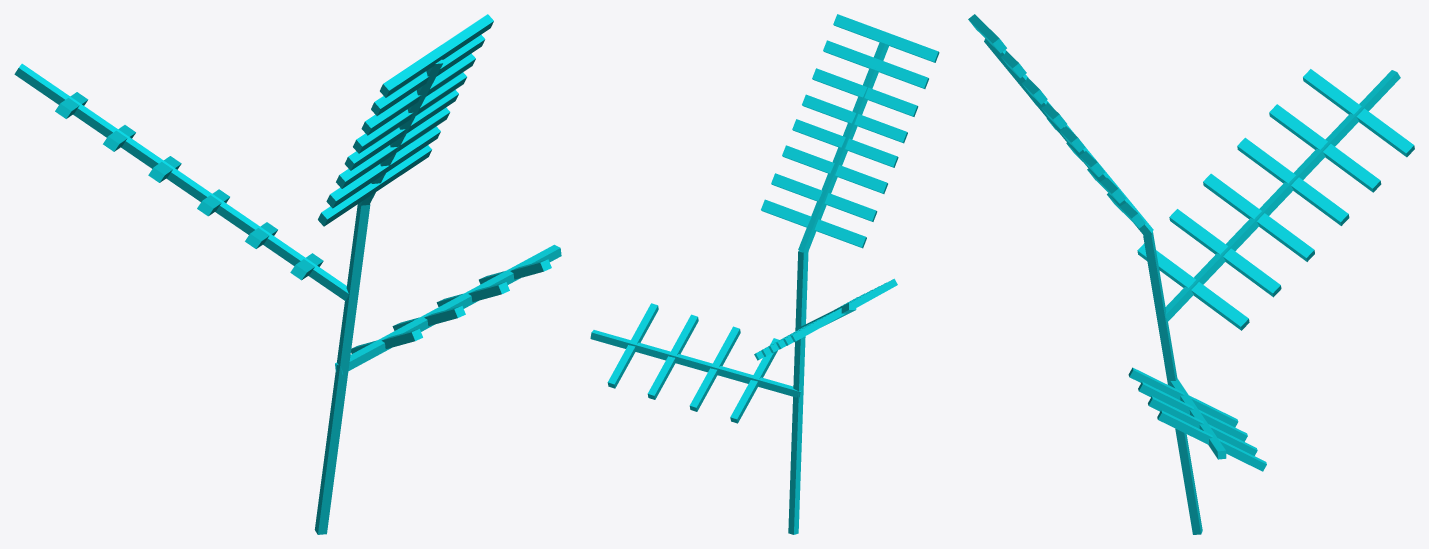
The model's file is Antenna2.fbx.
3 views of the same model, side by side, from view 1: azimuth 30°, elevation 25°; view 2: azimuth 150°, elevation 25°; view 3: azimuth 270°, elevation 25° (orthographic). The views are drawn at different scales.
Parts seen in each view (by area): view 1: antenna2; view 2: antenna2; view 3: antenna2.
Part boxes in pixels (x1,y1,x2,y2): antenna2: [14, 14, 561, 534]; antenna2: [590, 14, 939, 534]; antenna2: [968, 14, 1414, 534].
Bounding box in the file's own units: 136 × 168 × 131.
